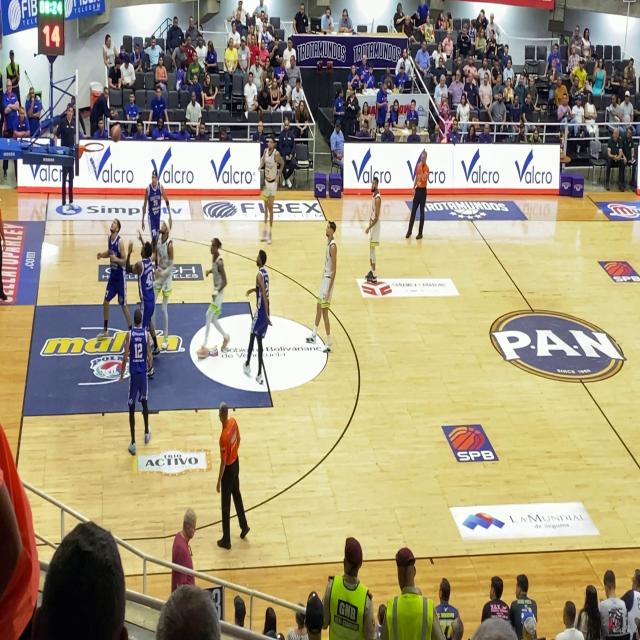Ball: (109, 122, 122, 148)
referee: (216, 408, 249, 544), (415, 142, 429, 240)
team1: (202, 237, 232, 352), (361, 180, 384, 282), (321, 221, 338, 356), (157, 218, 174, 347), (258, 138, 280, 237)
team2: (124, 308, 154, 449), (102, 218, 134, 330), (246, 248, 270, 389), (137, 244, 158, 328), (148, 171, 160, 243)
ubasket: (82, 139, 106, 176)
